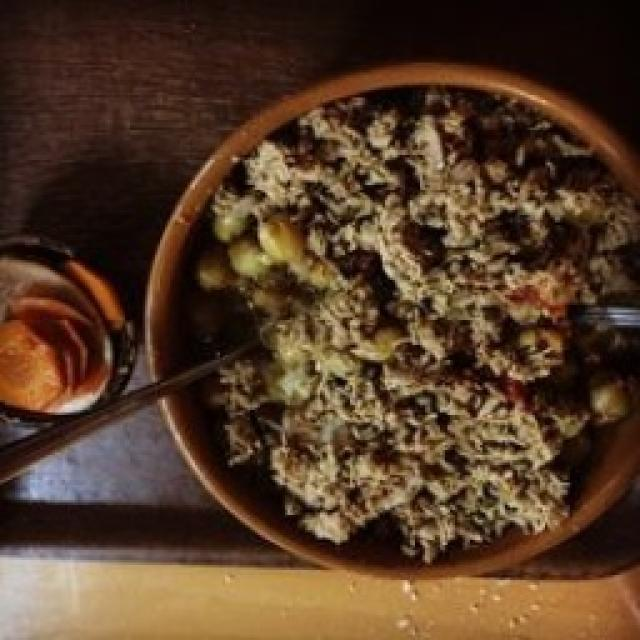Lablabi: (190, 88, 640, 565)
